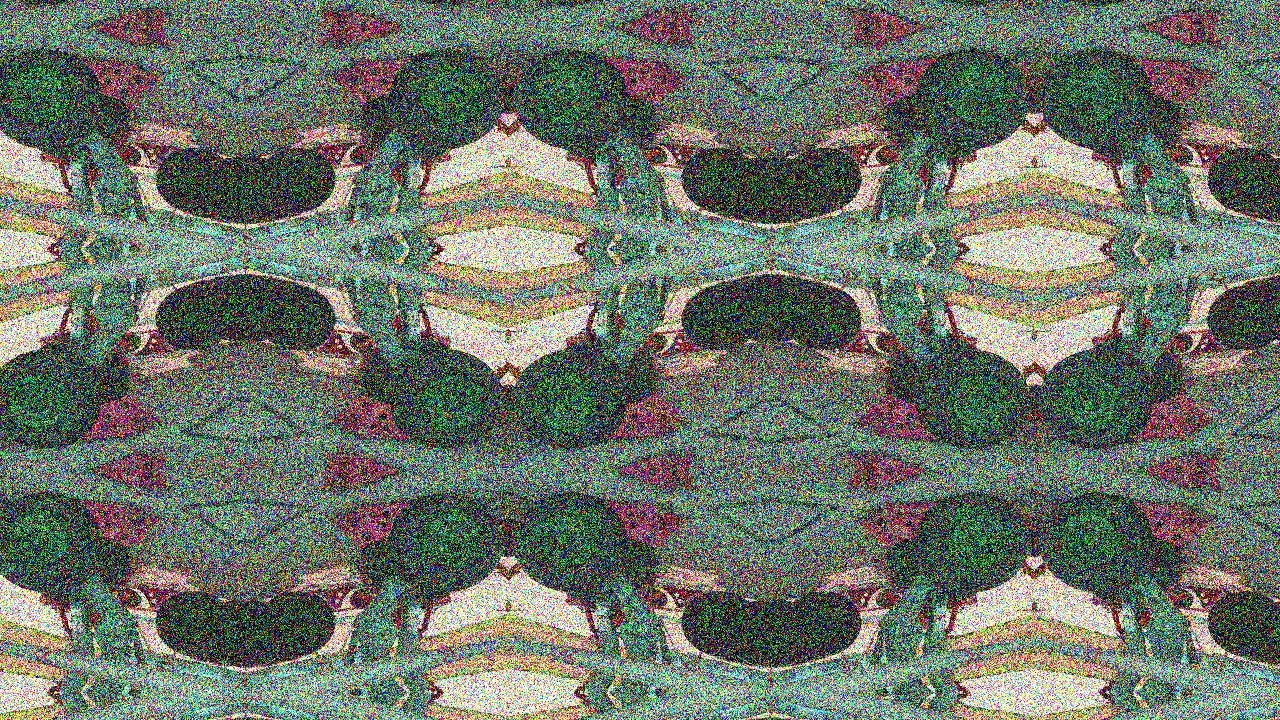chock: (71, 46, 168, 111), (322, 46, 419, 111), (71, 387, 168, 452), (322, 387, 419, 452), (71, 490, 168, 555), (322, 490, 419, 555), (598, 46, 694, 111), (849, 46, 945, 111), (1125, 46, 1221, 111), (598, 387, 694, 452), (849, 387, 945, 452), (1125, 387, 1221, 452), (598, 490, 694, 555), (849, 490, 945, 555), (1125, 490, 1221, 555), (610, 27, 707, 56), (610, 442, 707, 471), (610, 471, 707, 500), (84, 27, 180, 56), (310, 27, 406, 56), (837, 27, 933, 56), (1137, 27, 1233, 56), (84, 442, 180, 471), (310, 442, 406, 471), (837, 442, 933, 471), (1137, 442, 1233, 471), (84, 471, 180, 500), (310, 471, 406, 500), (837, 471, 933, 500), (1137, 471, 1233, 500), (610, 0, 707, 27), (84, 0, 180, 27), (310, 0, 406, 27), (837, 0, 933, 27), (1137, 0, 1233, 27), (71, 0, 168, 8), (322, 0, 419, 8), (598, 0, 694, 8), (849, 0, 945, 8), (1125, 0, 1221, 8)
wheel: (508, 38, 642, 162), (508, 336, 642, 460), (508, 482, 642, 606), (375, 38, 508, 162), (902, 38, 1035, 162), (1035, 38, 1168, 162), (375, 336, 508, 460), (902, 336, 1035, 460), (1035, 336, 1168, 460), (375, 482, 508, 606), (902, 482, 1035, 606), (1035, 482, 1168, 606), (0, 38, 115, 162), (0, 336, 115, 460), (0, 482, 115, 606), (148, 139, 224, 219), (266, 139, 342, 219), (675, 139, 751, 219), (792, 139, 868, 219), (1202, 139, 1278, 219), (148, 279, 224, 359), (266, 279, 342, 359), (675, 279, 751, 359), (792, 279, 868, 359), (1202, 279, 1278, 359), (148, 583, 224, 663), (266, 583, 342, 663), (675, 583, 751, 663), (792, 583, 868, 663), (1202, 583, 1278, 663), (209, 153, 245, 233), (245, 153, 281, 233), (736, 153, 772, 233), (209, 265, 245, 345), (245, 265, 281, 345), (736, 265, 772, 345), (209, 597, 245, 677), (245, 597, 281, 677), (736, 597, 772, 677), (772, 153, 807, 233), (772, 265, 807, 345), (772, 597, 807, 677), (508, 0, 642, 16), (375, 0, 508, 16), (902, 0, 1035, 16), (1035, 0, 1168, 16), (0, 0, 115, 16), (1263, 153, 1280, 233), (1263, 265, 1280, 345), (1263, 597, 1280, 677), (209, 709, 245, 720), (245, 709, 281, 720), (736, 709, 772, 720), (772, 709, 807, 720), (1263, 709, 1280, 720)
